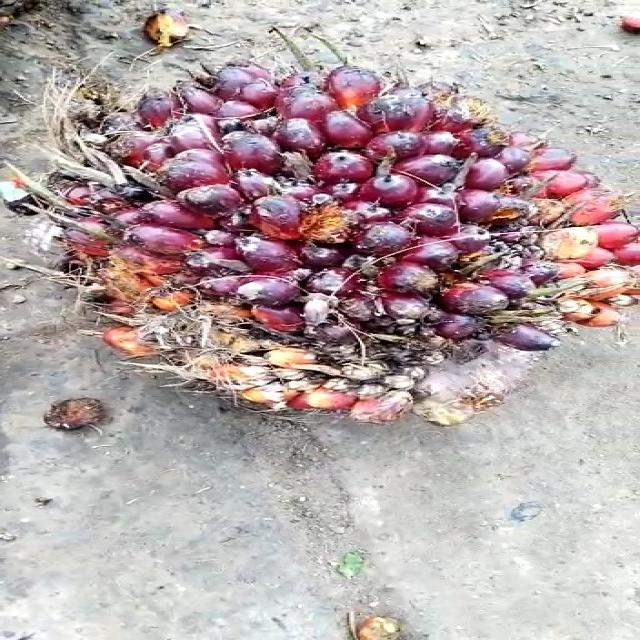palm oil: (33, 61, 640, 429)
